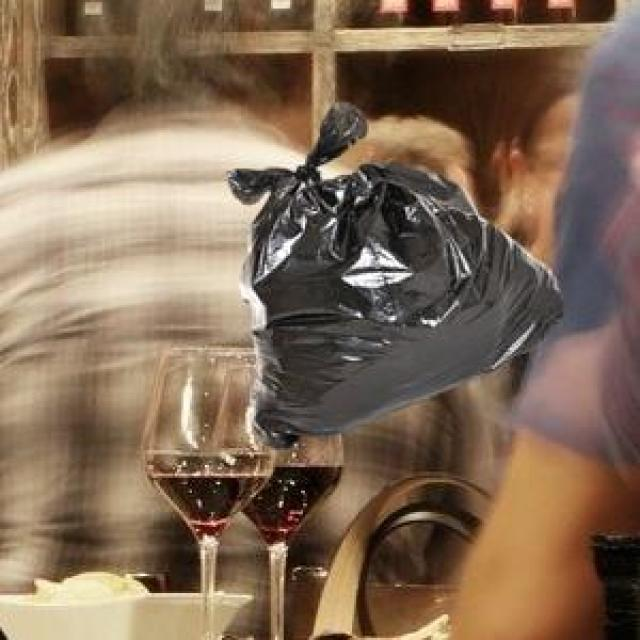miscellaneous trash: (224, 98, 559, 444)
